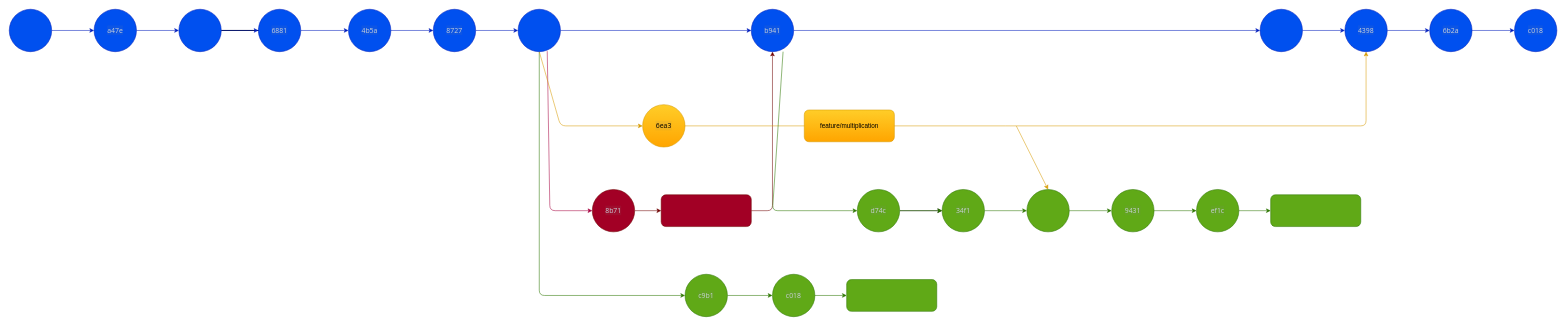
Some shapes in this 1566 by 326 pixel diagram are drawn without their labels. The shapes that lost their labels are listed below. From the top down, each one's box as (x1, y1, x2, y2) in pixels, then its label:
(9, 9, 52, 52): 6efd
(178, 9, 221, 52): 2a34
(518, 9, 560, 52): 58cc
(1260, 9, 1302, 52): 6d36
(661, 194, 751, 227): feature/subtraction
(1026, 189, 1069, 232): 5a0b
(1270, 194, 1361, 227): task/power-function
(846, 279, 937, 311): feature/division
